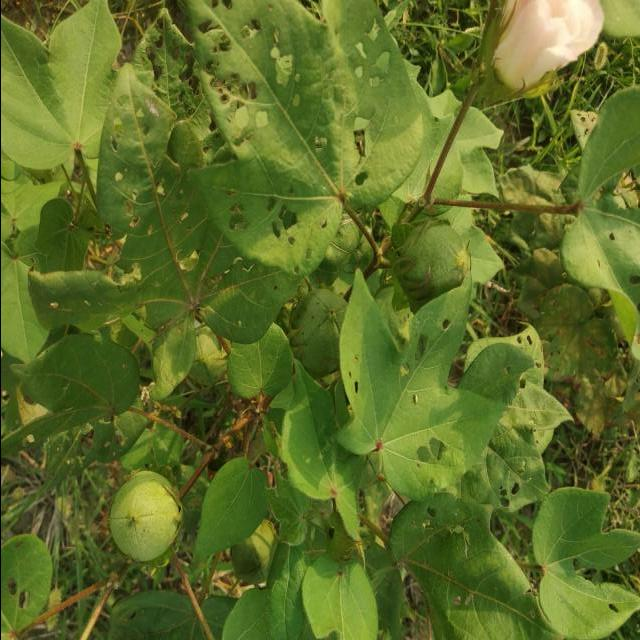Cotton Blossom: (475, 0, 608, 106)
Early Boll: (101, 474, 184, 574), (388, 214, 470, 298), (288, 284, 358, 380)
